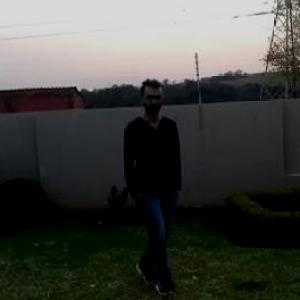follow: (112, 78, 182, 290)
